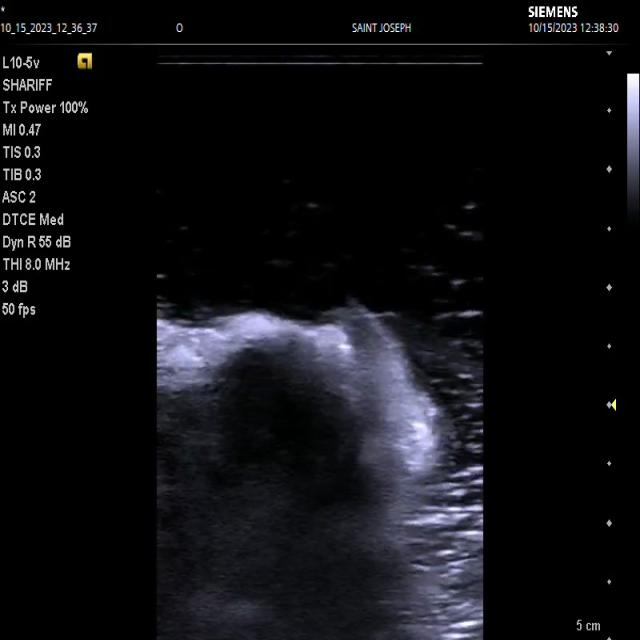tissue: (154, 313, 458, 640)
